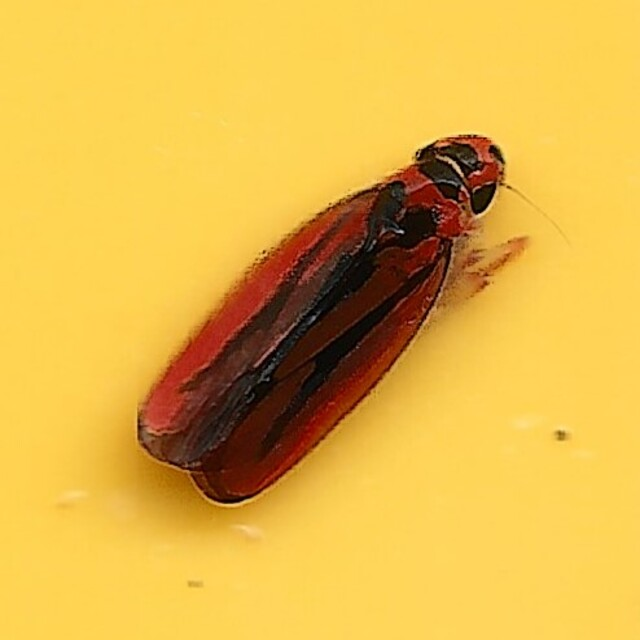Hemiptera: (130, 131, 510, 509)
